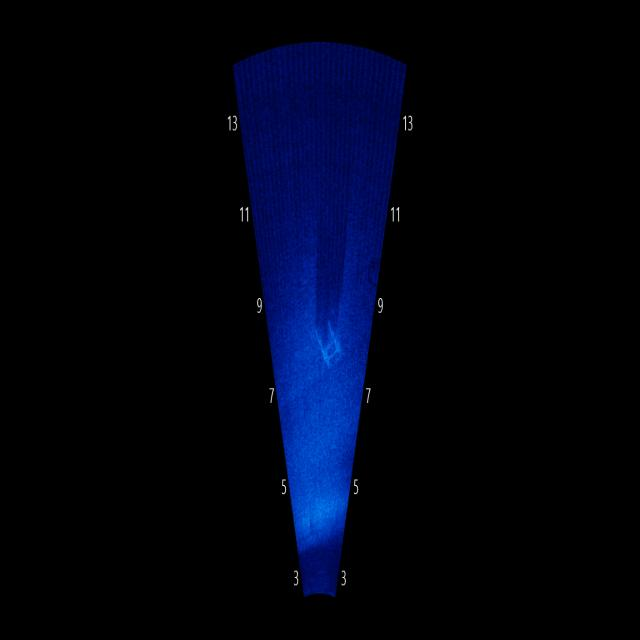square: (314, 309, 349, 375)
